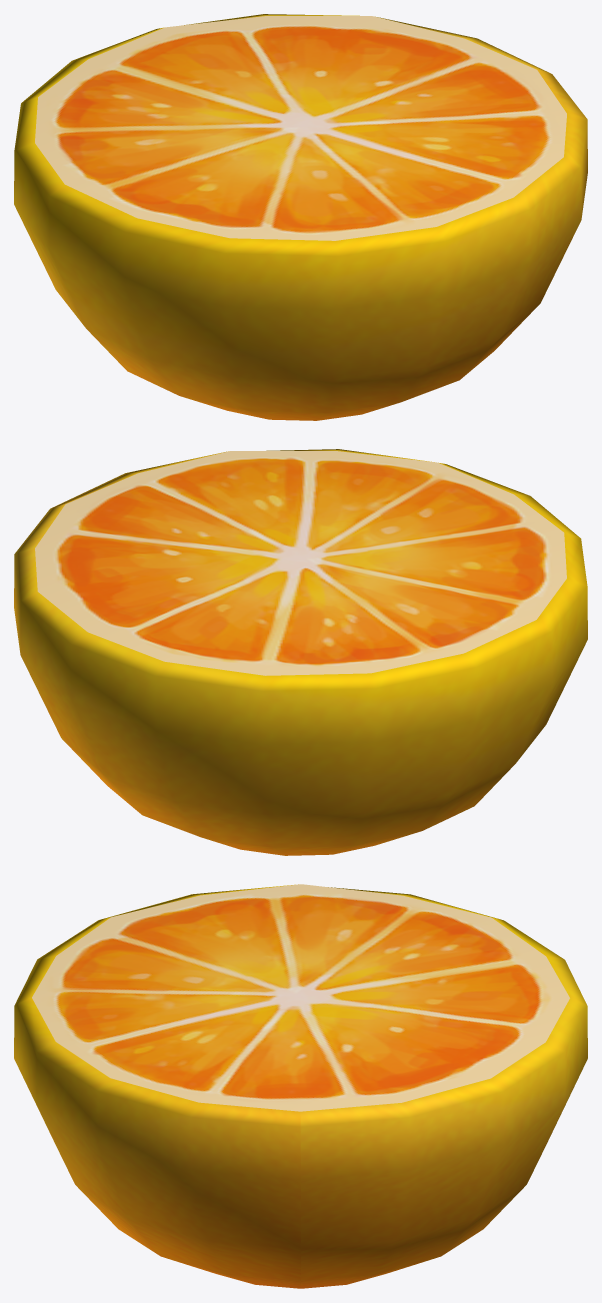
The model's file is Orange_Half.fbx.
3 views of the same model, one above another, from view 1: azimuth 30°, elevation 25°; view 2: azimuth 150°, elevation 25°; view 3: azimuth 270°, elevation 25° (orthographic).
Visible parts, largest first — view 1: Orange_Half; view 2: Orange_Half; view 3: Orange_Half.
Boxes of the visible parts, x1,y1,x2,y2 form: Orange_Half: (14,14,587,420); Orange_Half: (14,449,587,855); Orange_Half: (14,884,587,1288).
Size of the model in its own units: 28.89 by 14.74 by 28.89.
